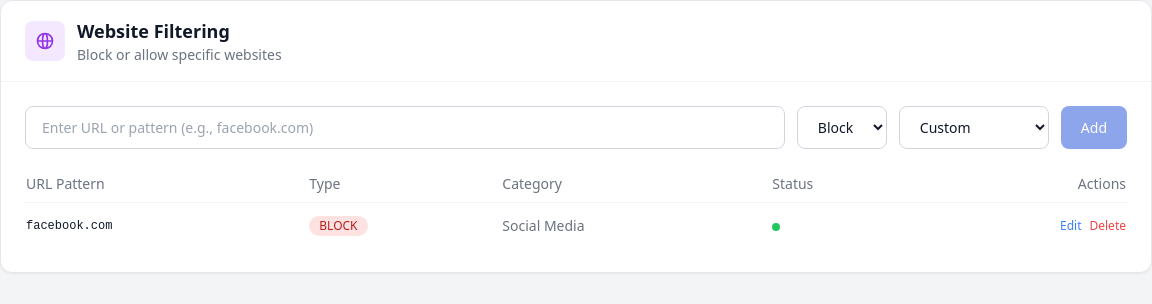
Scenario: WebsiteFilterSection edit › opens an inline edit form with prefilled values when edit is clicked
Click the button with aria-label "edit facebook.com" at (1071, 226), box [1060,218,1082,234]
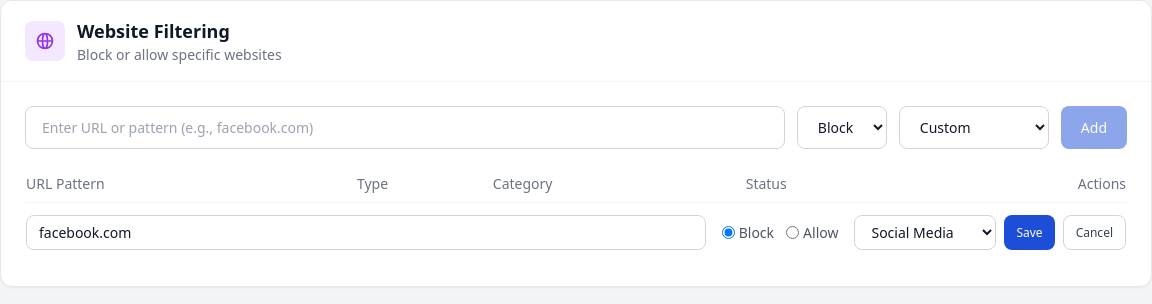
Result: the form with test id "url-filter-edit-form" is shown at [26,215,1126,250]
Result: the field named "URL pattern" holds "facebook.com" at [26,215,706,250]
Result: the dropdown named "Category" shows "Social Media" at [854,215,996,250]
